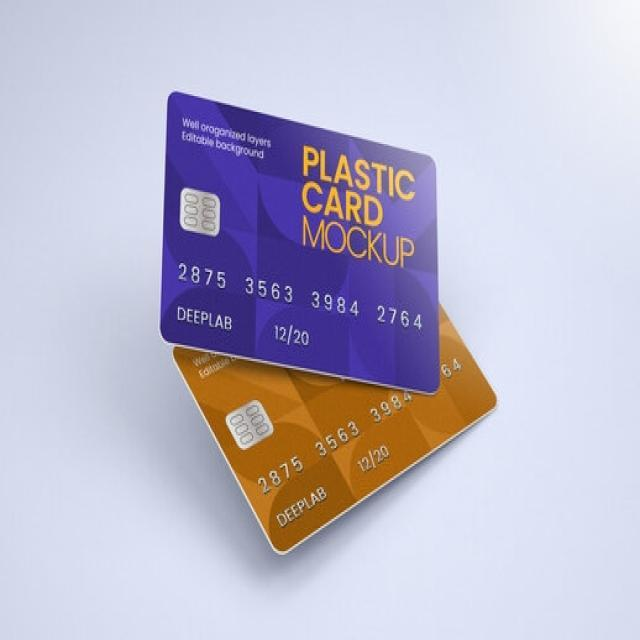payment_card: (158, 89, 442, 396)
